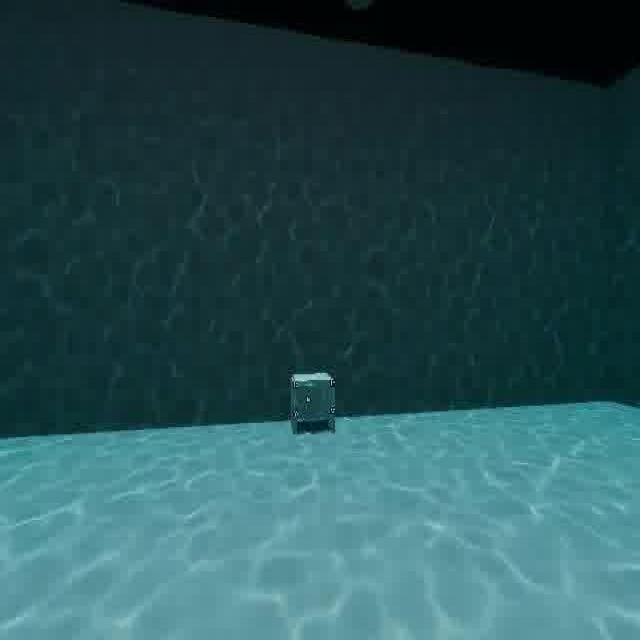Docking Station: (287, 358, 339, 444)
